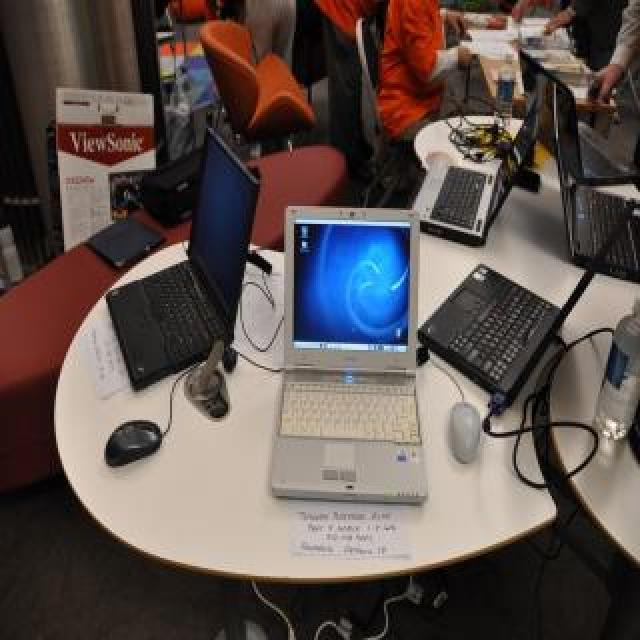laptop_computer: (265, 199, 438, 516), (120, 116, 249, 386), (444, 263, 577, 397), (550, 86, 635, 273), (420, 100, 544, 228)
mouse: (440, 394, 490, 475), (108, 413, 162, 478)
